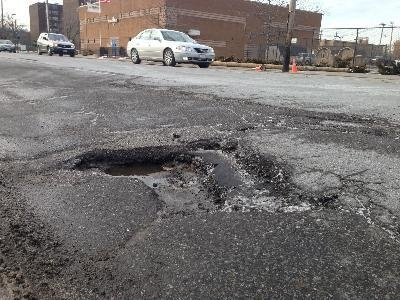pothole: (72, 137, 312, 215), (307, 114, 373, 136)
